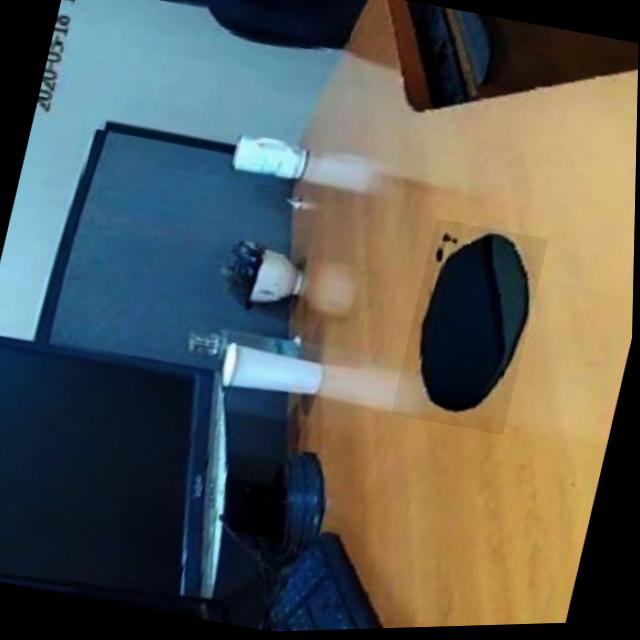spillage: (417, 223, 535, 428)
